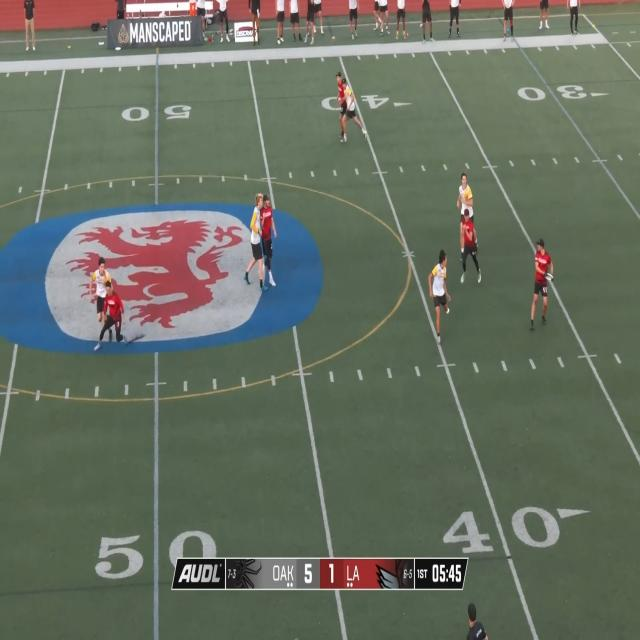Disc: (545, 273, 553, 280)
Player: (95, 280, 127, 352), (428, 250, 451, 340), (531, 237, 552, 330), (90, 259, 112, 343), (456, 176, 478, 258), (246, 193, 264, 288), (460, 211, 482, 282), (342, 80, 366, 140), (262, 196, 277, 286), (336, 73, 346, 137)
